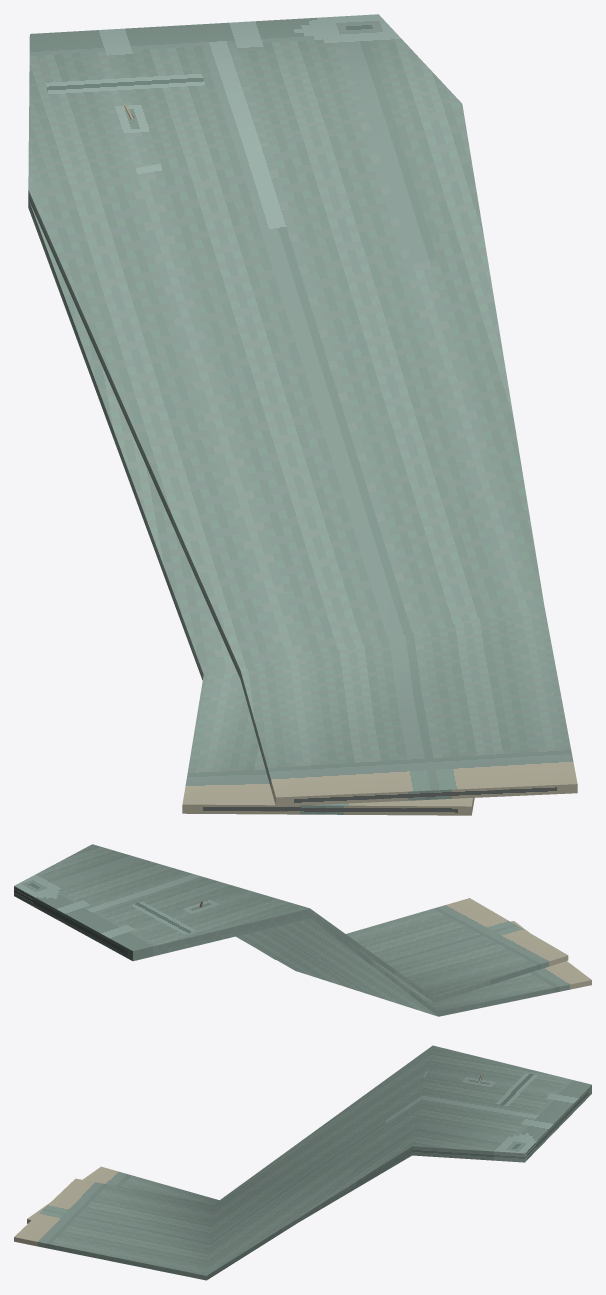
File: 04b4_Pants.glb
The picture shows the model from 3 angles, top to bottom: view 1: azimuth 30°, elevation 25°; view 2: azimuth 150°, elevation 25°; view 3: azimuth 270°, elevation 25°; orthographic projection. The views are drawn at different scales.
Visible parts, largest first — view 1: part_0; view 2: part_0; view 3: part_0.
Part boxes in pixels (box(x1,y1,x2,y2)): part_0: box(28, 14, 577, 815); part_0: box(14, 844, 591, 1016); part_0: box(14, 1045, 591, 1280).
Size of the model in its own units: 0.4587 by 0.248 by 0.7407.
1 material, 1 textured.
